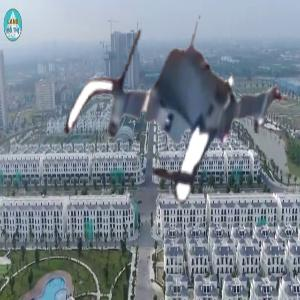drone: (66, 7, 288, 229)
